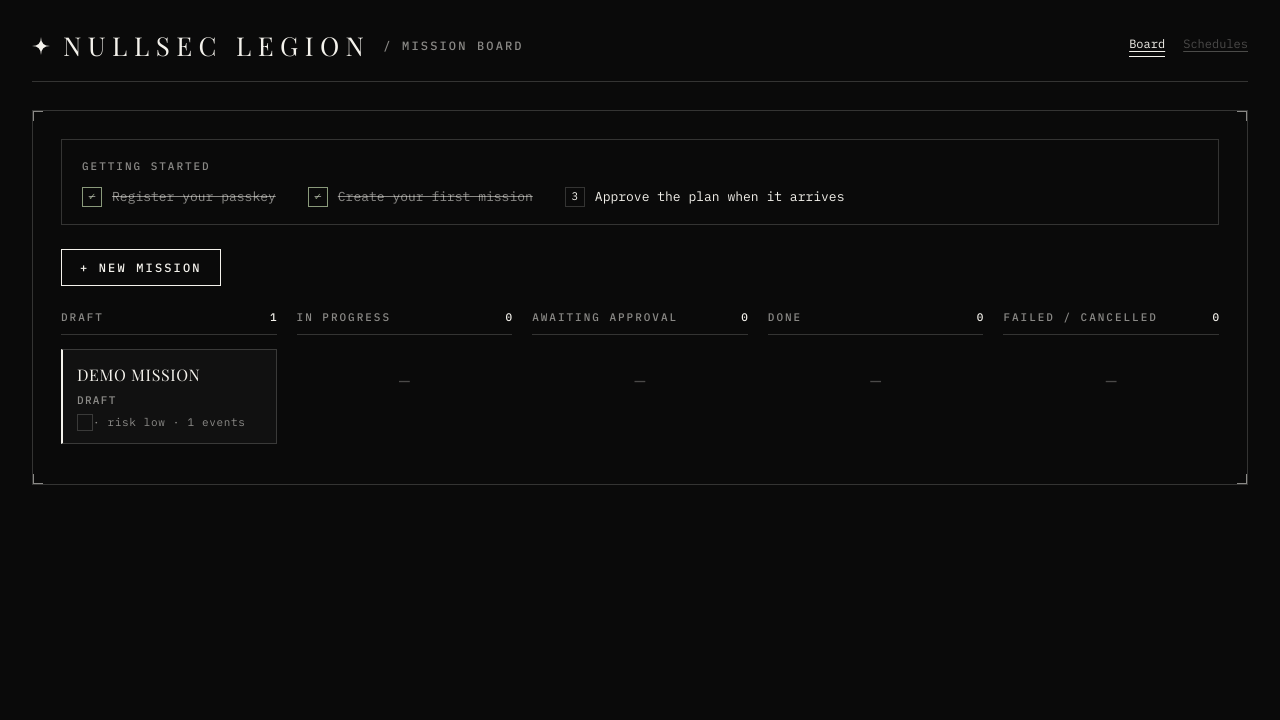
it: M5.5 operator UX › DRAFT shows exactly one primary action (Start planning)
Click the button "Demo mission DRAFT · risk low · 1 events" at (169, 396), box [61,349,277,444]
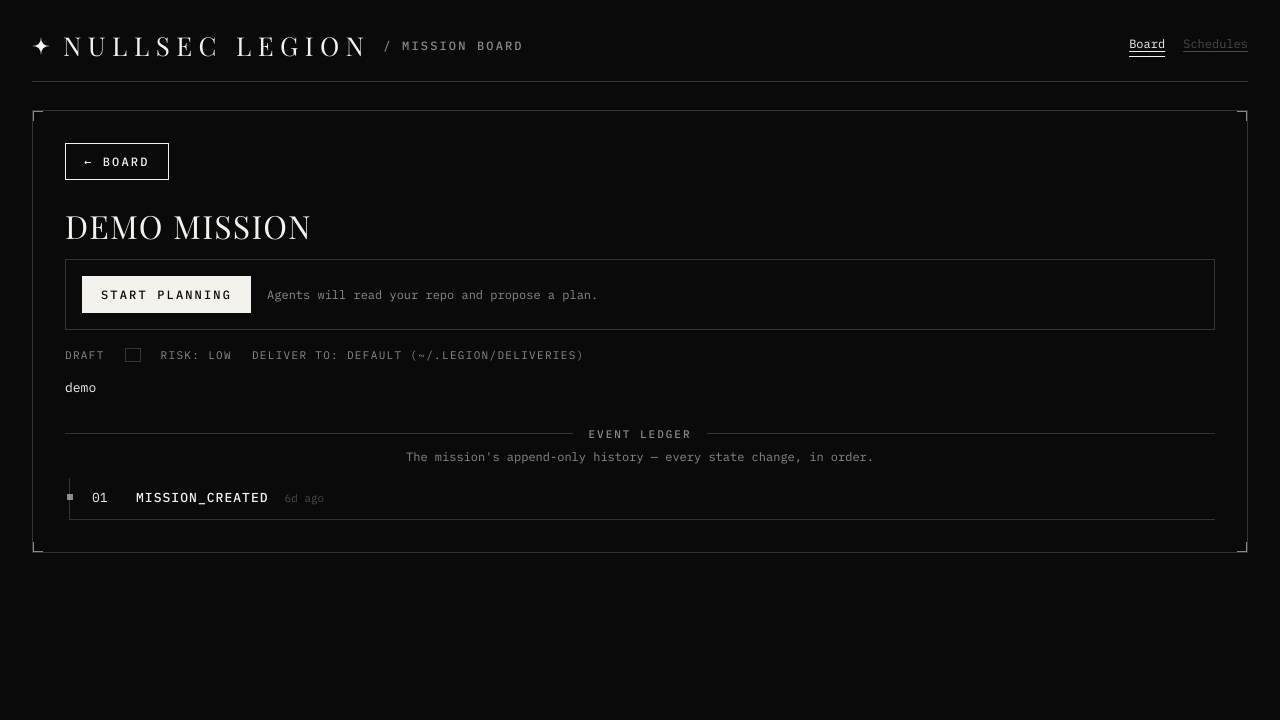
Expected: the button "Start planning" is shown, [82,276,251,313]
Expected: the element with class "action-bar" is shown, [65,259,1215,330]
